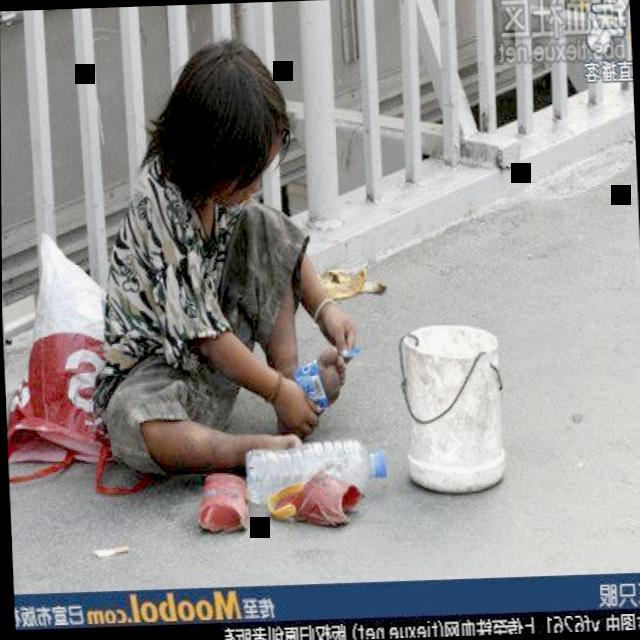Fall-Detected: (72, 37, 407, 520)
